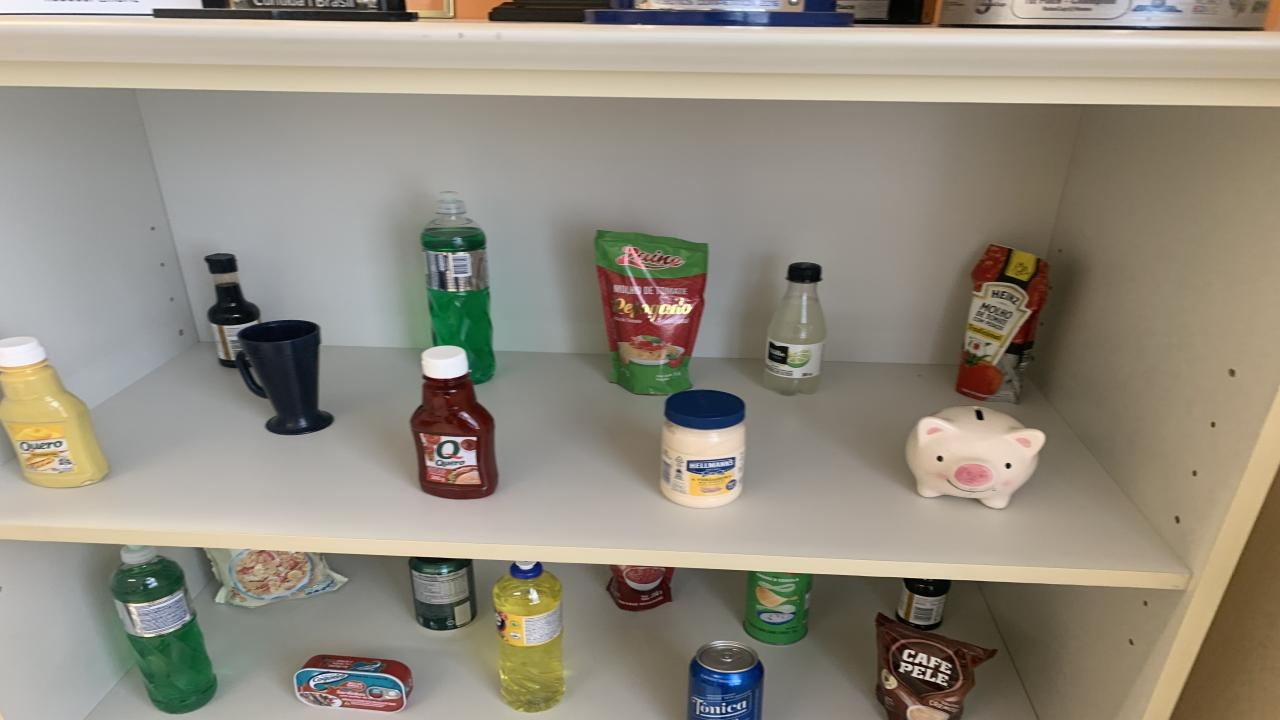Coffee-Pantry_Items: (875, 613, 998, 720)
Detergent-Cleanup_Items: (110, 546, 218, 714), (420, 191, 495, 384), (492, 562, 565, 712)
English_Sauce-Pantry_Items: (205, 253, 260, 368), (895, 578, 950, 630)
Flakes-Snacks: (205, 549, 348, 608)
Guarana_Can-Drinks: (408, 557, 478, 630)
Ketchup-Pantry_Items: (410, 345, 498, 499)
Mayonnaise-Pantry_Items: (660, 390, 745, 508)
Mustard-Pantry_Items: (0, 338, 110, 488)
Pig_Safe-Miscellaneous: (905, 405, 1045, 508)
Pringles-Snacks: (742, 572, 812, 645)
Soda-Drinks: (762, 262, 825, 396)
Tomato_Sauce-Pantry_Items: (595, 231, 708, 396), (955, 244, 1050, 403), (608, 564, 672, 611)
Tonic-Drinks: (688, 641, 765, 720)
Tuna_Can-Pantry_Items: (295, 654, 412, 712)
